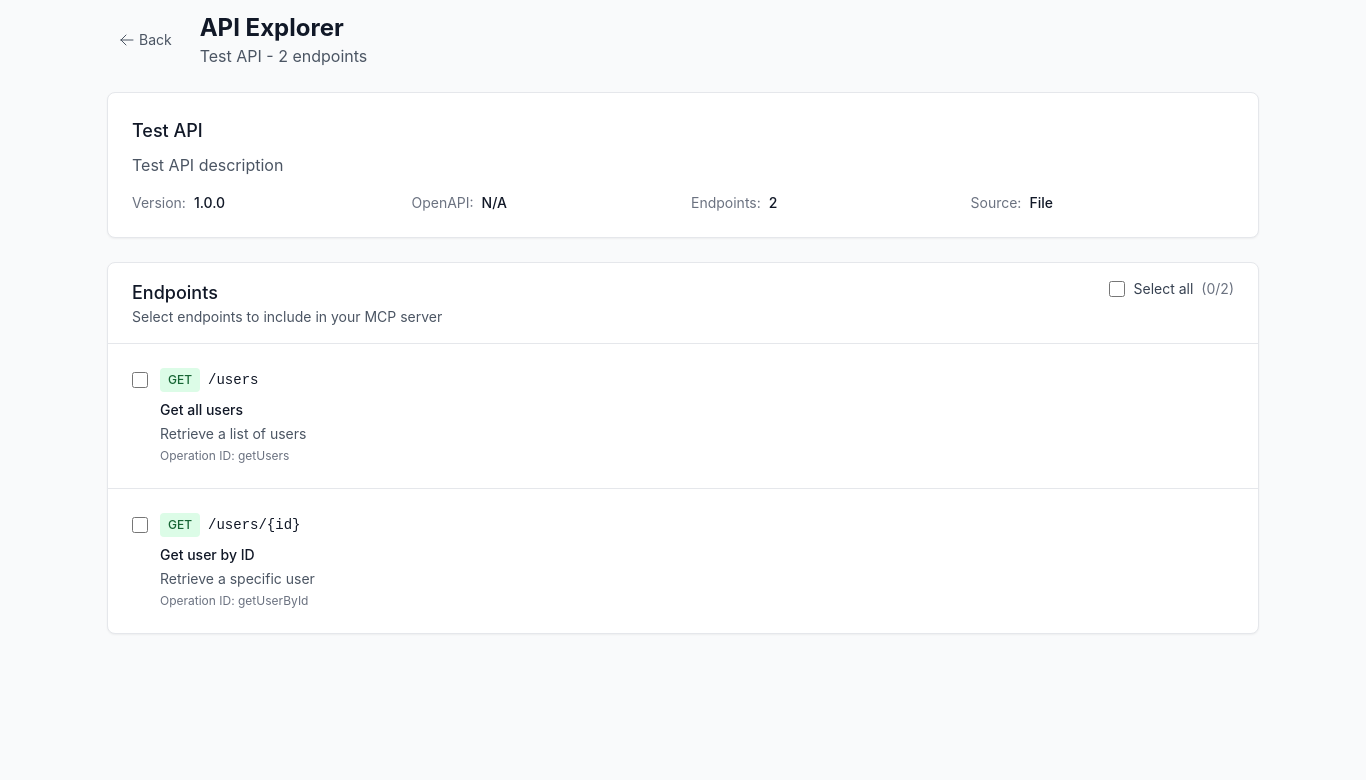
Test: ApiExplorer › select all › clears the selection when clicked again
Click the checkbox labelled "Select all (0/2)": (1118, 289) [1110,281,1126,297]
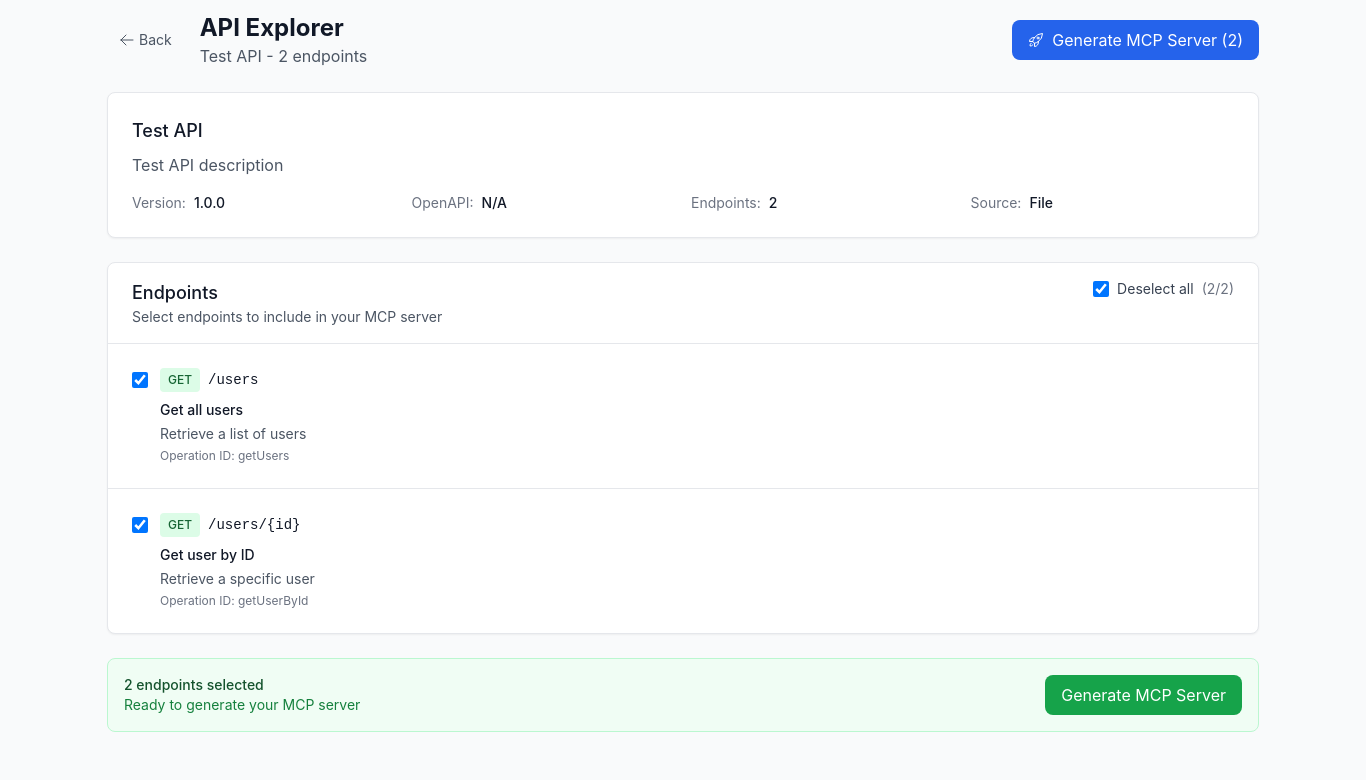
Click the checkbox labelled "Deselect all (2/2)": (1101, 289) [1093,281,1109,297]
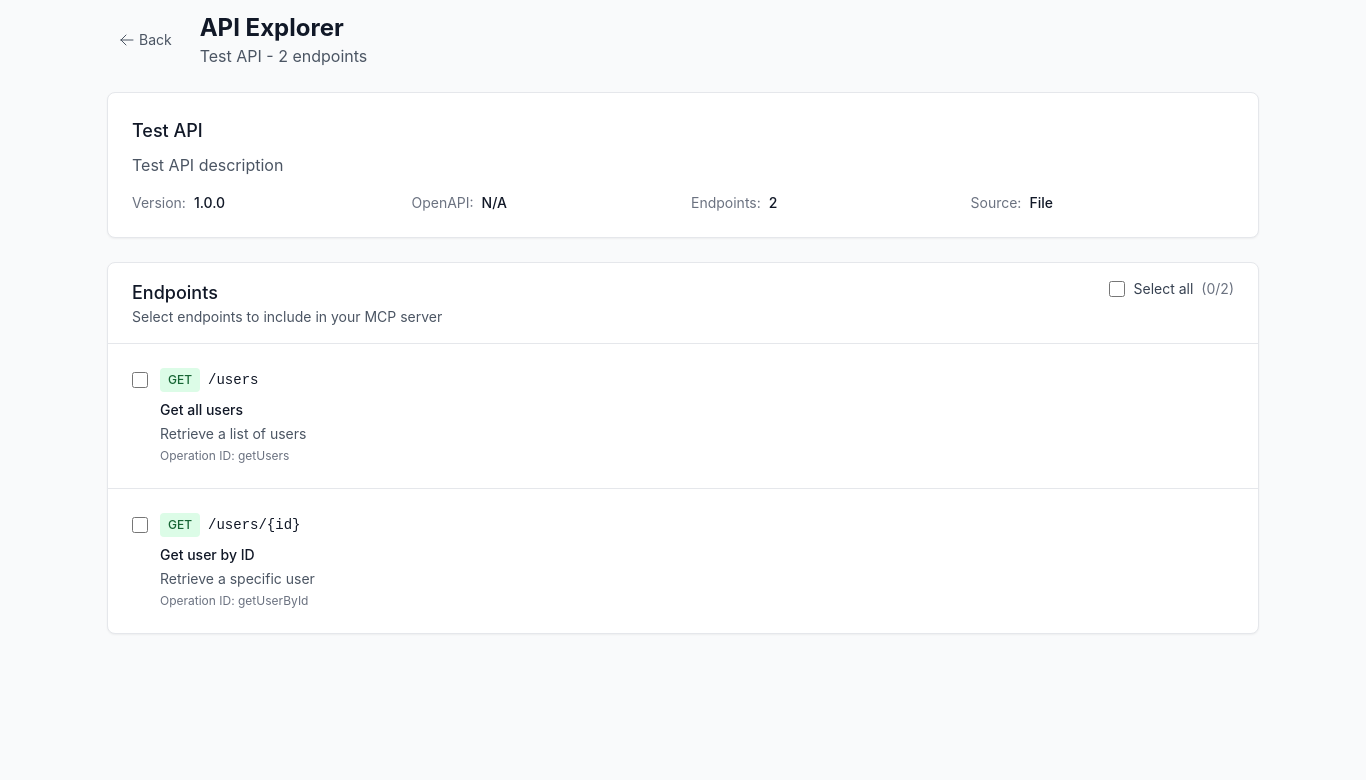
Expected: the checkbox labelled "Select all (0/2)" is not checked, [1110,281,1126,297]
Expected: the button "Generate MCP Server" is gone
Expected: the checkbox named "Select GET /users" is not checked, [132,372,148,388]
